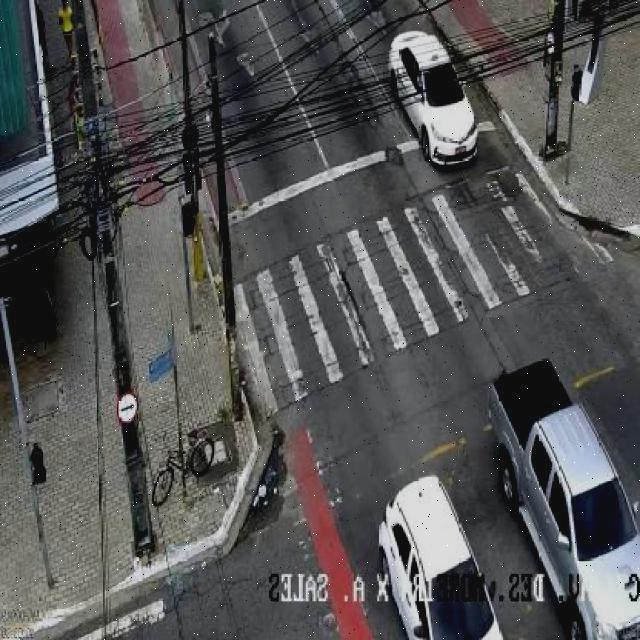Car: (489, 355, 640, 640), (371, 472, 491, 640), (386, 26, 474, 172)
